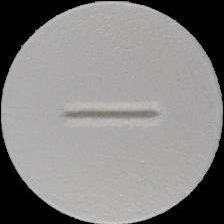68084-530: (0, 0, 224, 224)
